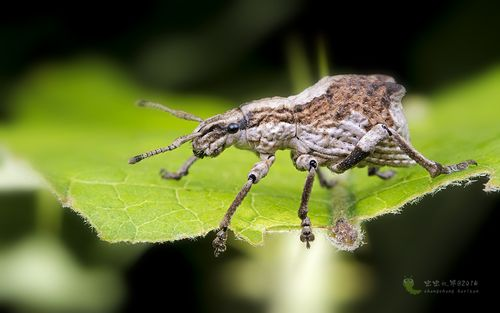Curculionidae: (127, 73, 478, 258)
